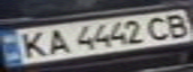2: (124, 17, 148, 46)
4: (72, 22, 96, 52), (93, 20, 115, 50), (109, 19, 130, 47)
A: (39, 26, 72, 56)
B: (160, 11, 193, 39)
C: (142, 13, 175, 42)
K: (12, 29, 51, 61)
